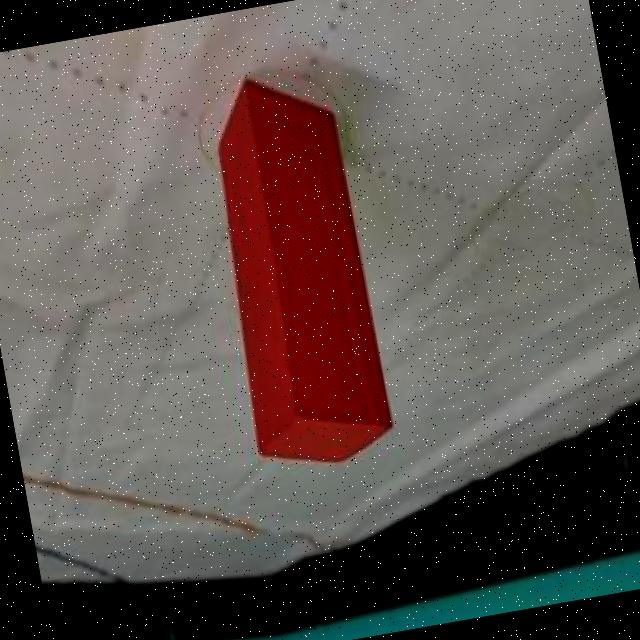redbox: (195, 61, 402, 478)
